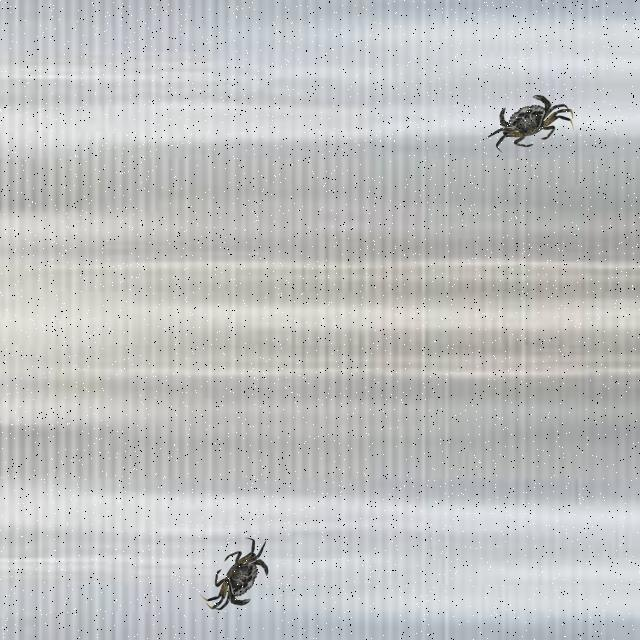European_Green_Crab: (478, 78, 584, 165), (197, 526, 285, 623)
